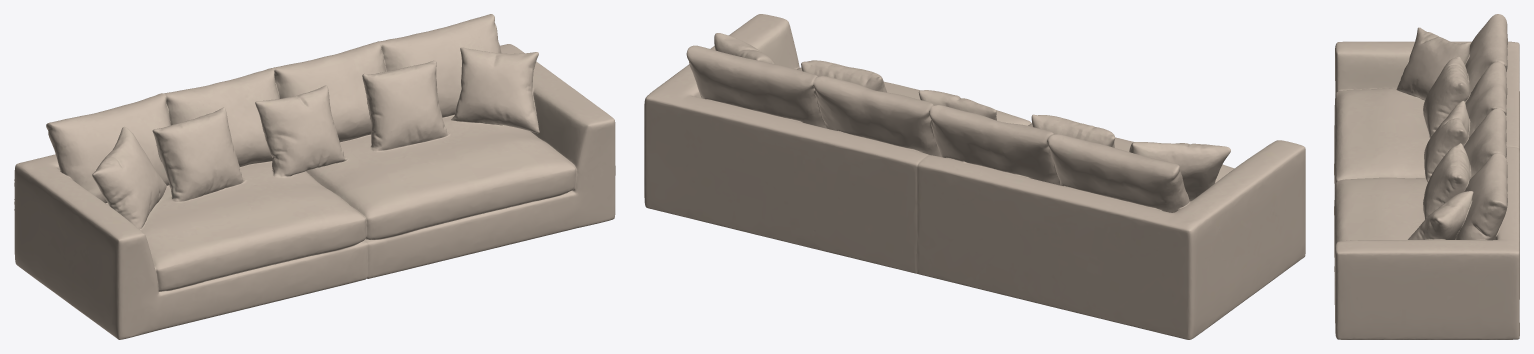
File: homax-benitez-4-seater-sofa-set-for-living-room-solid-sal-wo.glb
The picture shows the model from 3 angles, left to right: view 1: azimuth 30°, elevation 25°; view 2: azimuth 150°, elevation 25°; view 3: azimuth 270°, elevation 25°; orthographic projection. The views are drawn at different scales.
Size of the model in its own units: 1.9 by 0.5287 by 0.7038.
1 material, 1 textured.
